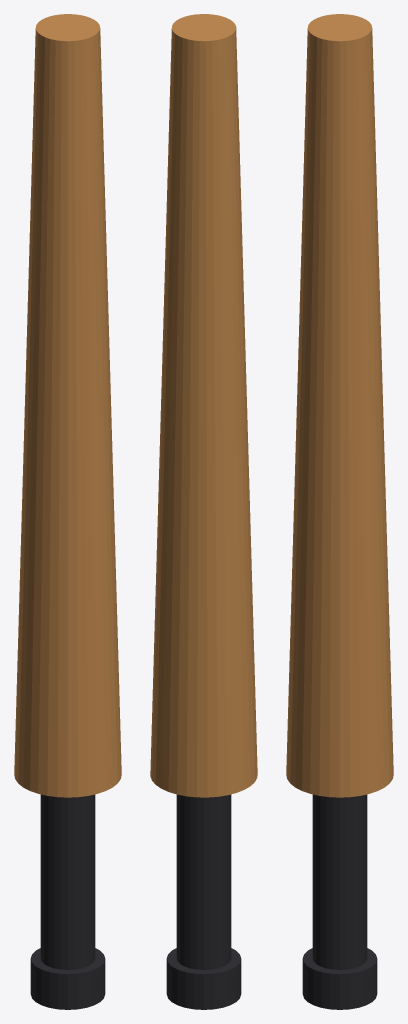
Rendered from batte_cheikh.glb.
The picture shows the model from 3 angles, left to right: view 1: azimuth 90°, elevation 25°; view 2: azimuth 150°, elevation 25°; view 3: azimuth 270°, elevation 25°; orthographic projection.
Parts seen in each view (by area): view 1: BatteCheikh, Poignee, Pommeau; view 2: BatteCheikh, Poignee, Pommeau; view 3: BatteCheikh, Poignee, Pommeau.
Part boxes in pixels (box(x1,y1,x2,y2)): BatteCheikh: box(14, 14, 121, 797); Poignee: box(40, 794, 95, 969); Pommeau: box(30, 948, 105, 1009); BatteCheikh: box(150, 14, 257, 797); Poignee: box(176, 794, 231, 969); Pommeau: box(166, 948, 241, 1009); BatteCheikh: box(286, 14, 393, 797); Poignee: box(312, 794, 367, 969); Pommeau: box(302, 948, 377, 1009).
Size of the model in its own units: 0.15 by 1.49 by 0.15.
